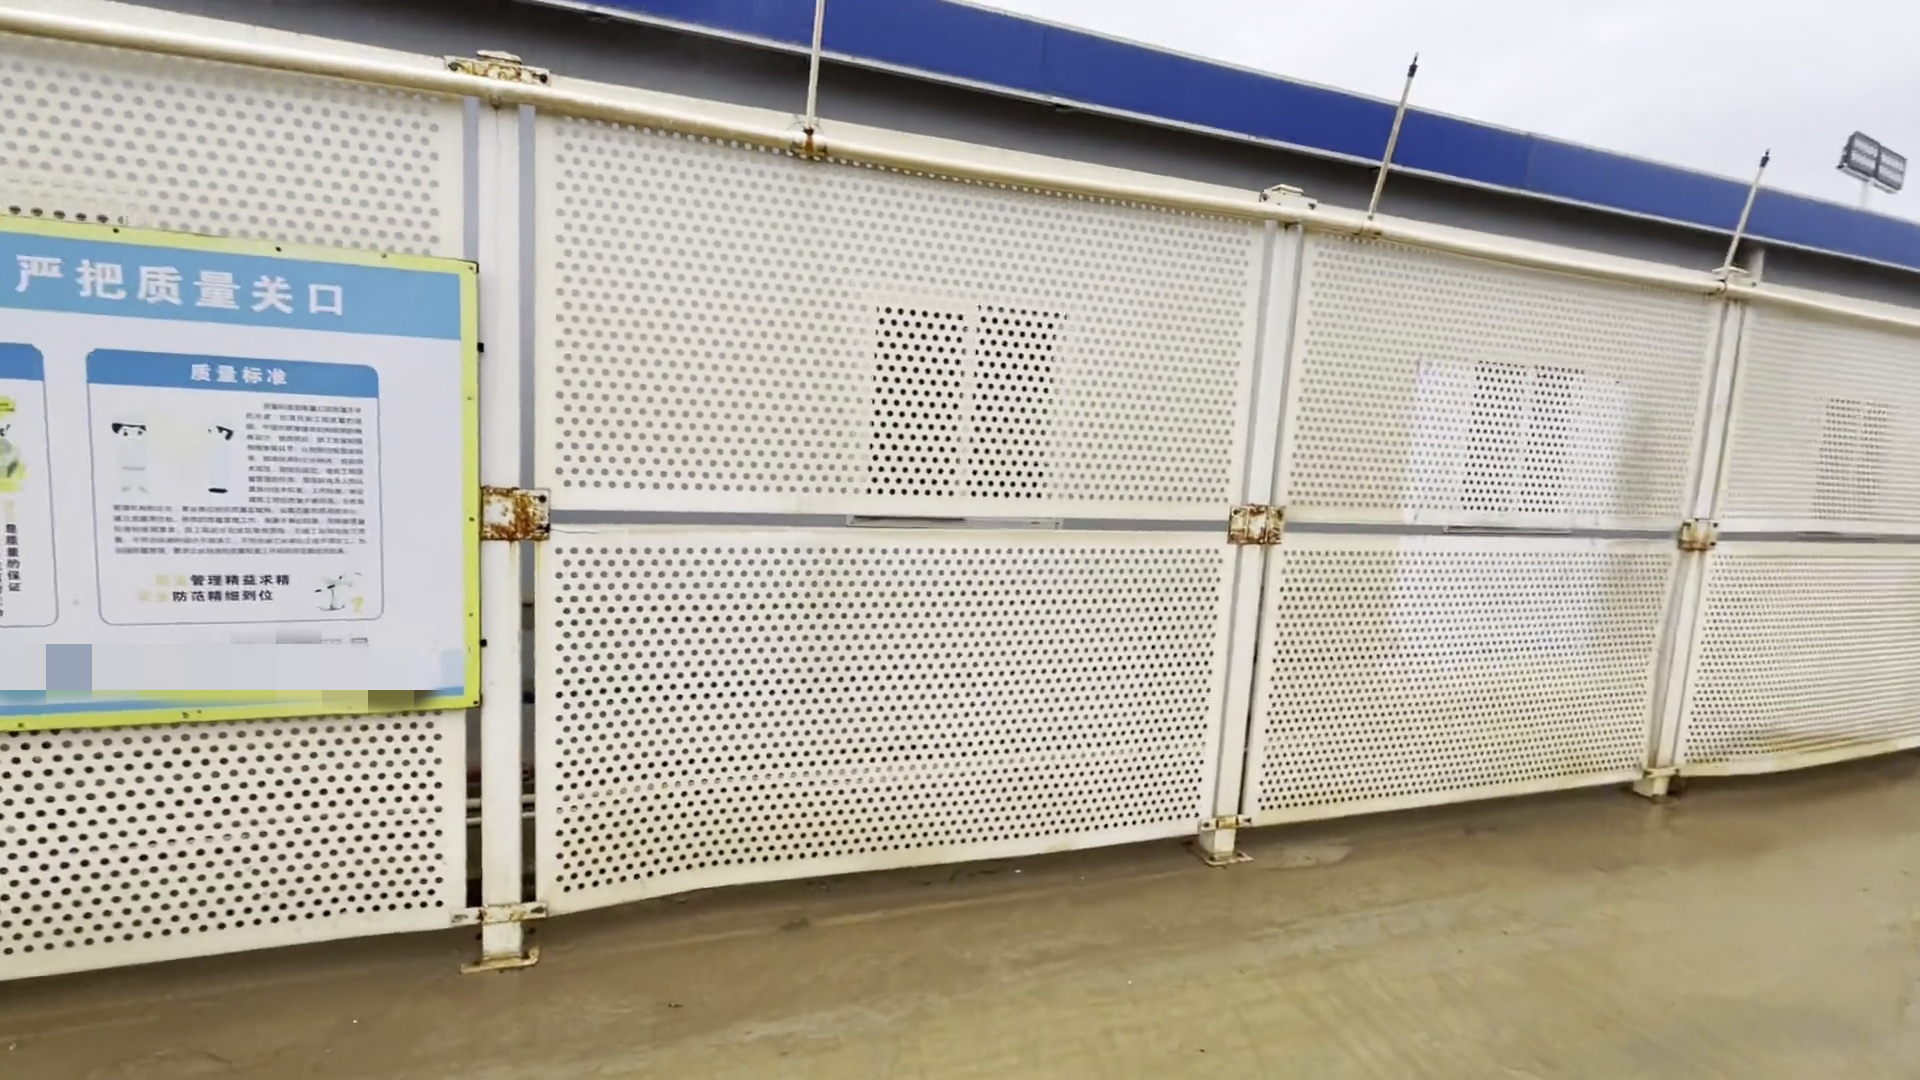slogan: (7, 212, 487, 717)
